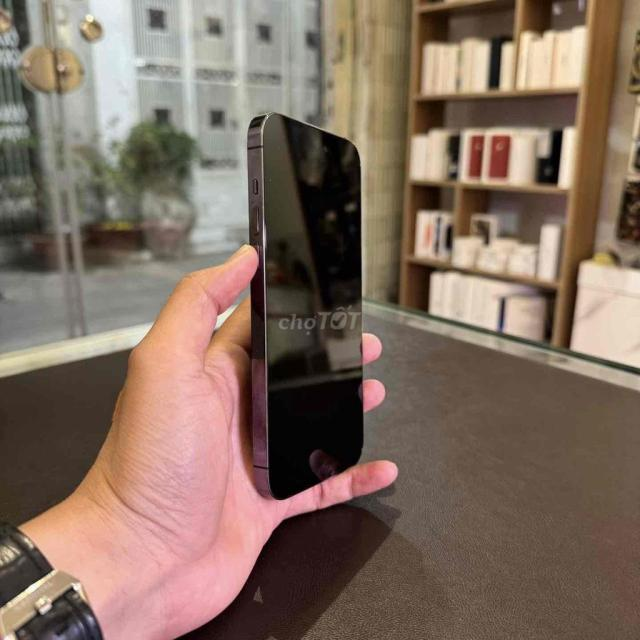gen_14: (232, 105, 374, 502)
